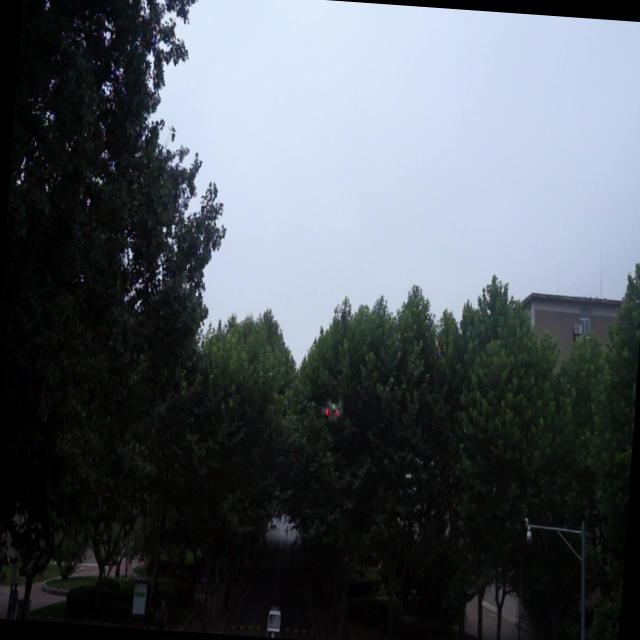drone: (318, 393, 343, 428)
